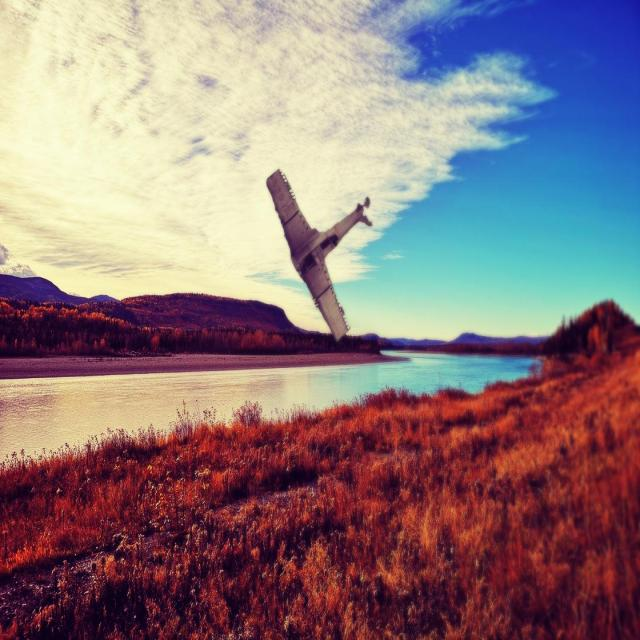airplane: (265, 168, 372, 343)
